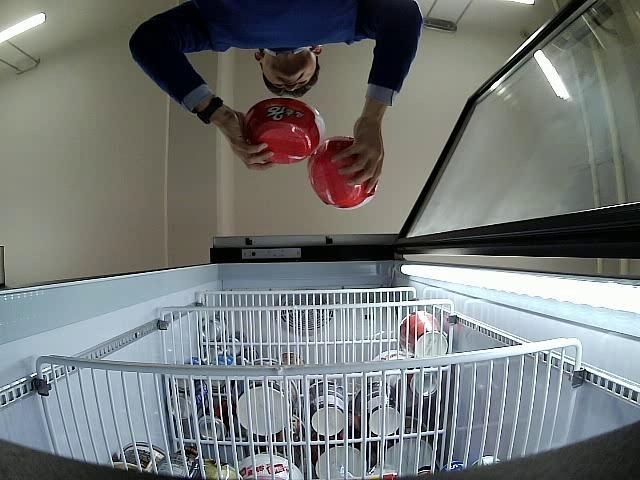10_wangTtukkeong: (243, 97, 326, 163), (306, 136, 376, 209)
